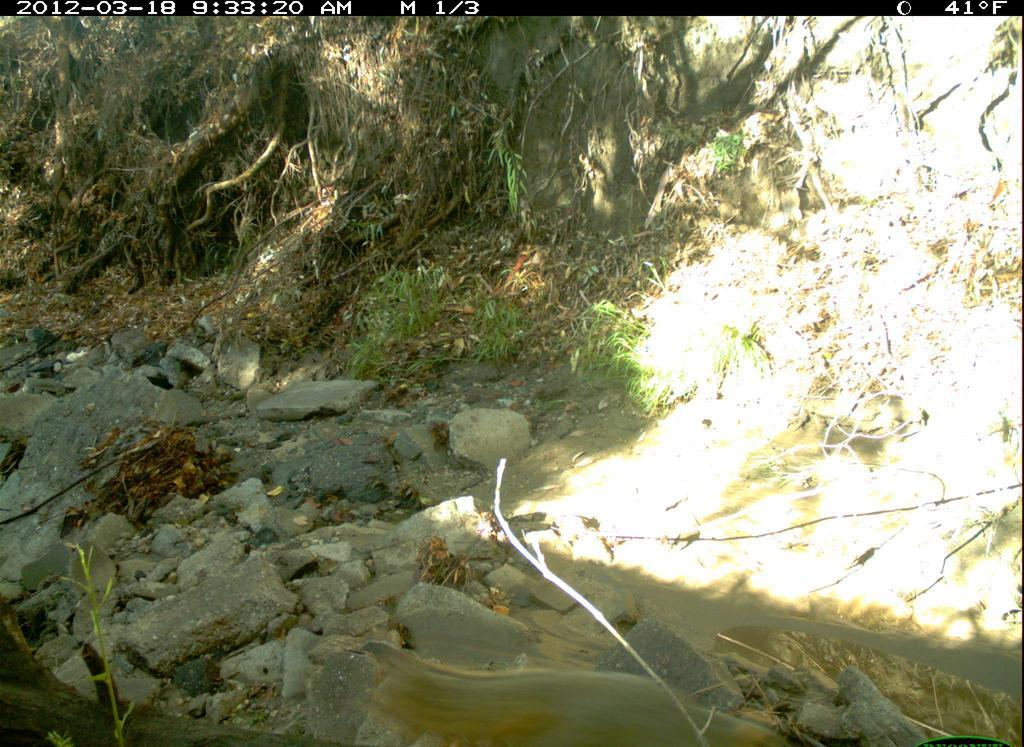squirrel: (349, 624, 781, 745)
